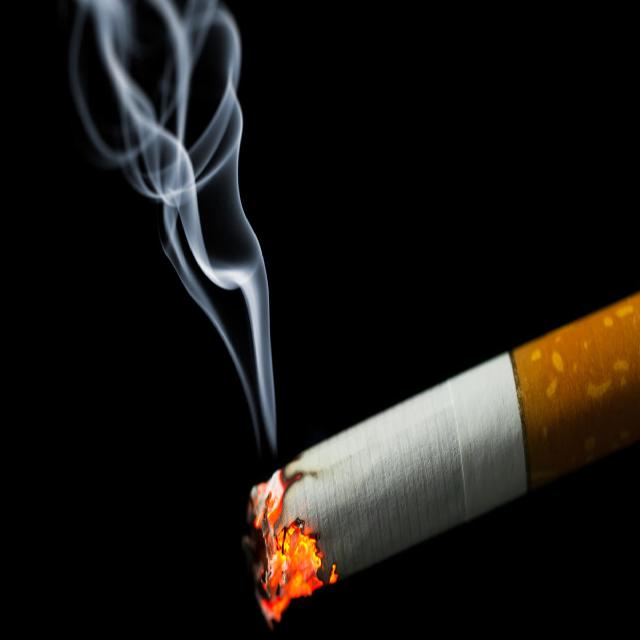Cigarette: (247, 291, 640, 622)
